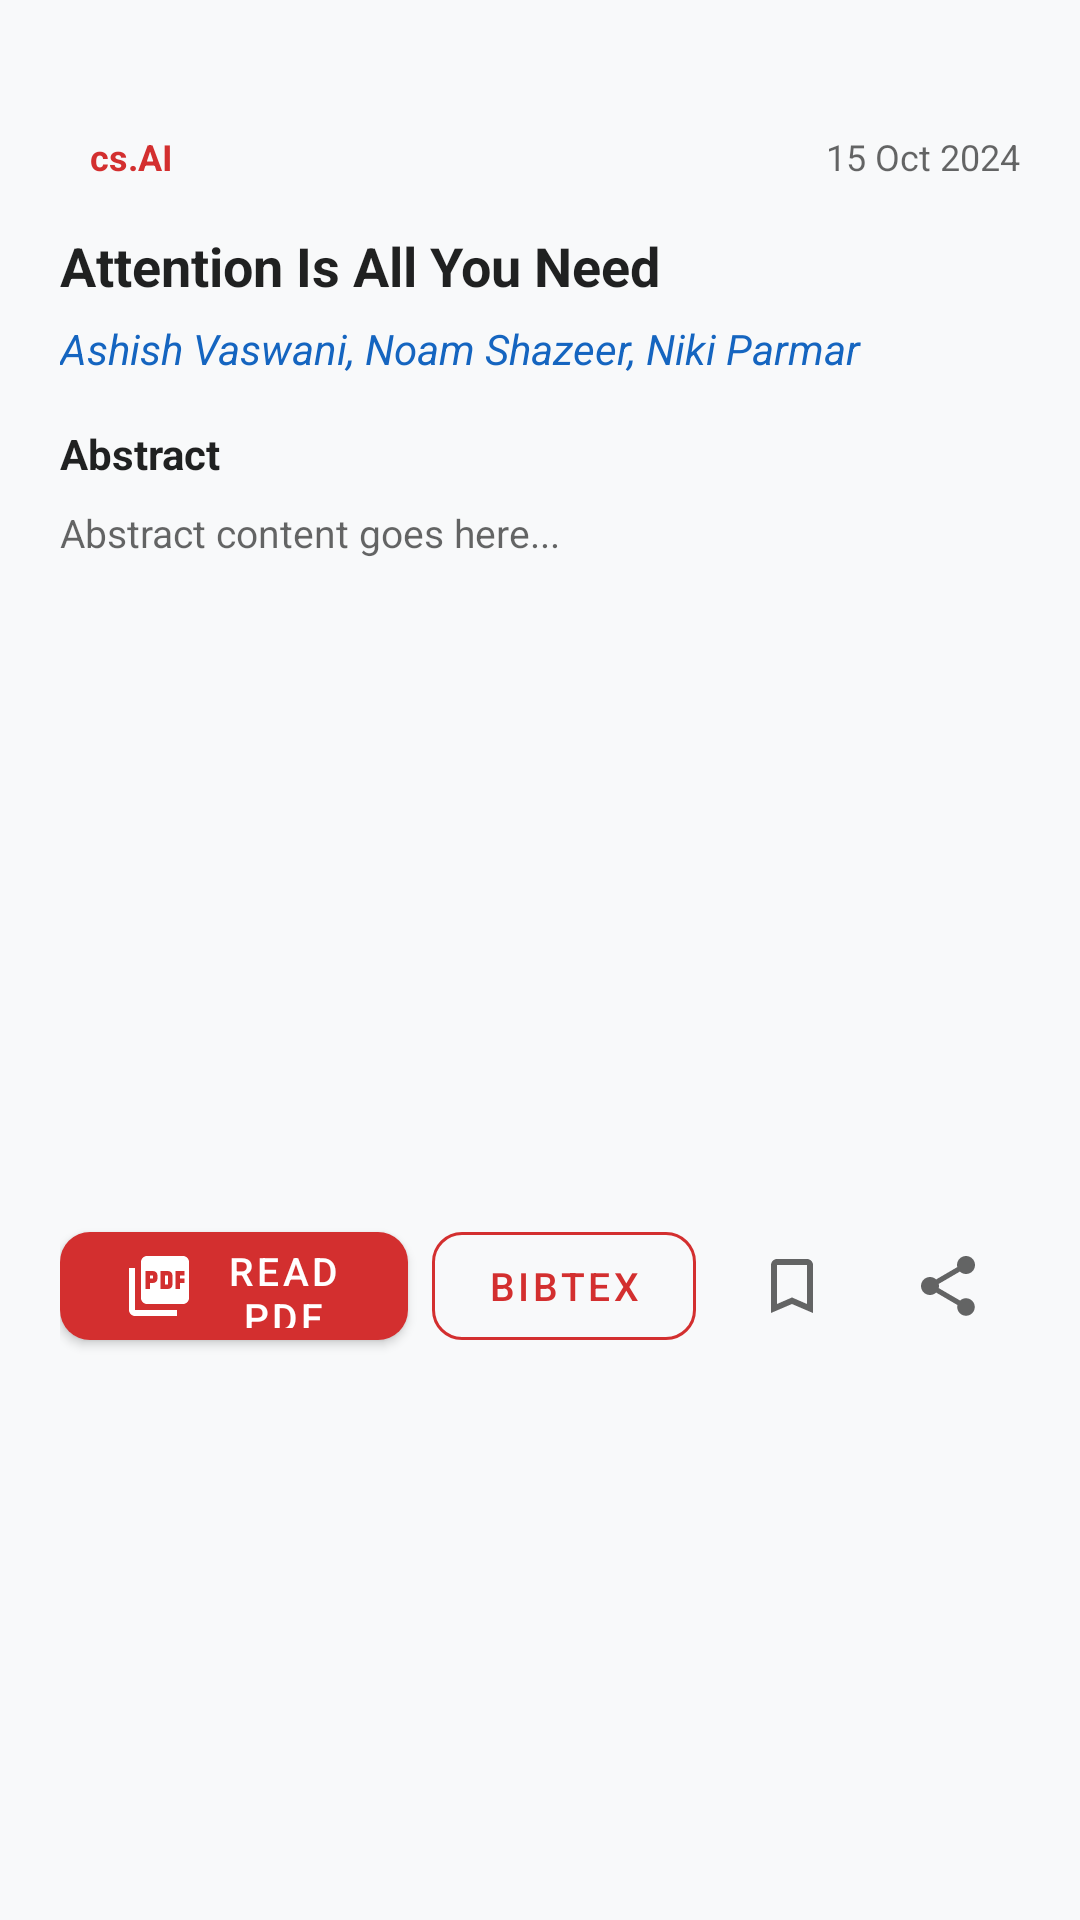

Icon click points for this 1080 x 1920 phone screenshot, format (x=x, y=y):
Bookmark: (x=792, y=1286)
Share: (x=948, y=1286)
